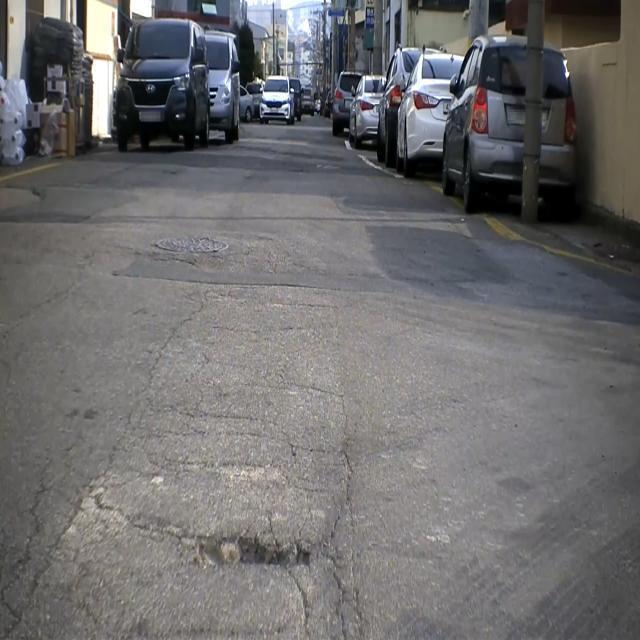pothole: (172, 520, 317, 590)
